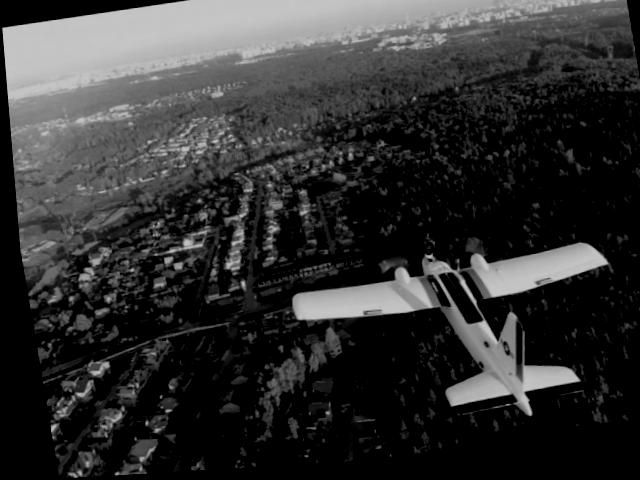hedef: (257, 205, 640, 459)
